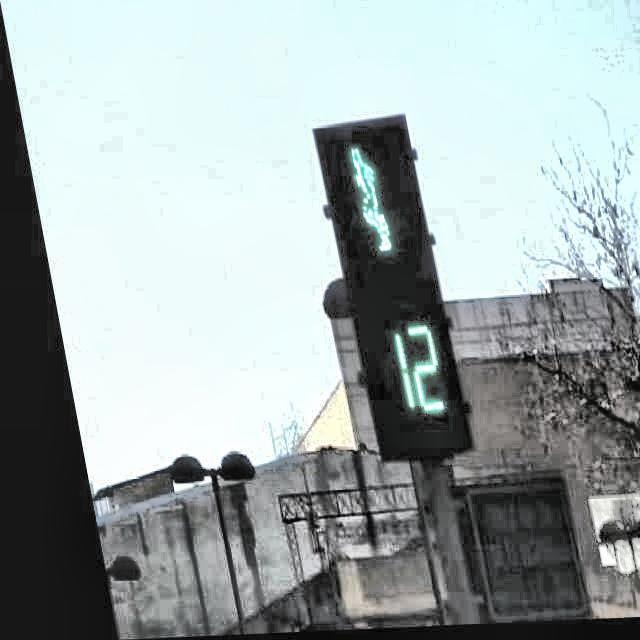semaforo pedestre: (265, 100, 491, 512)
